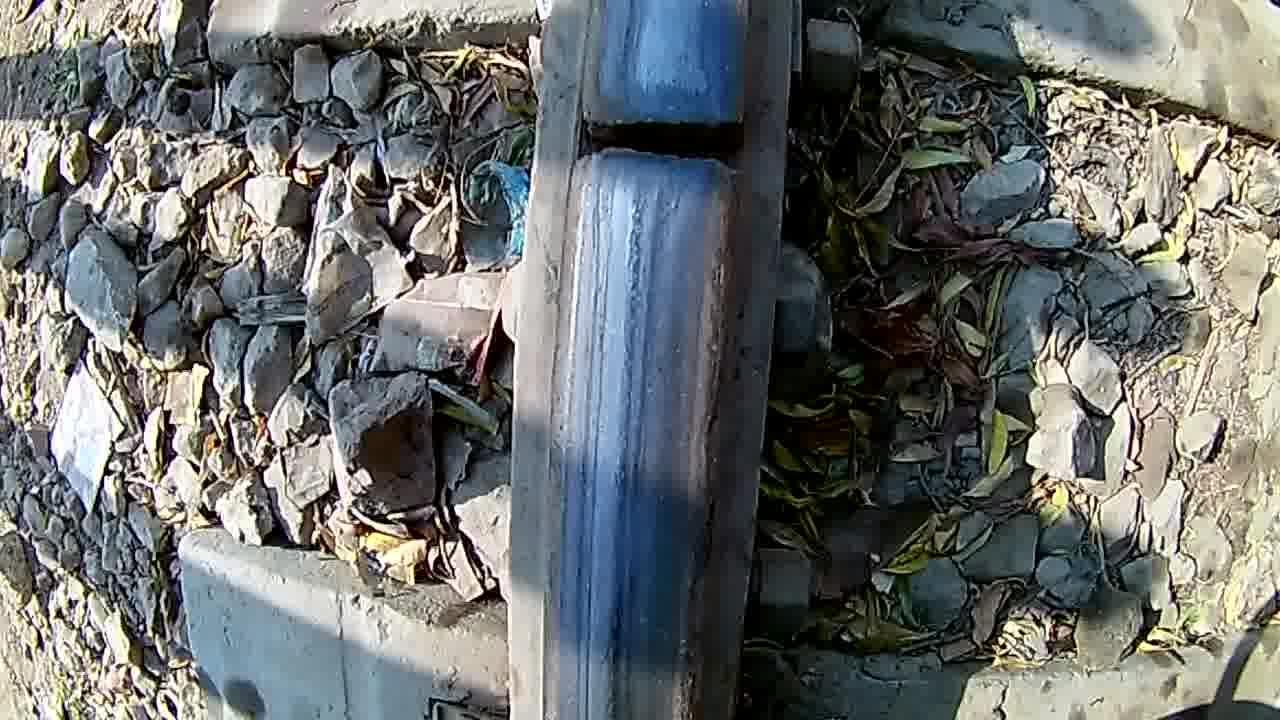crack: (563, 202, 760, 720), (550, 55, 766, 192)
